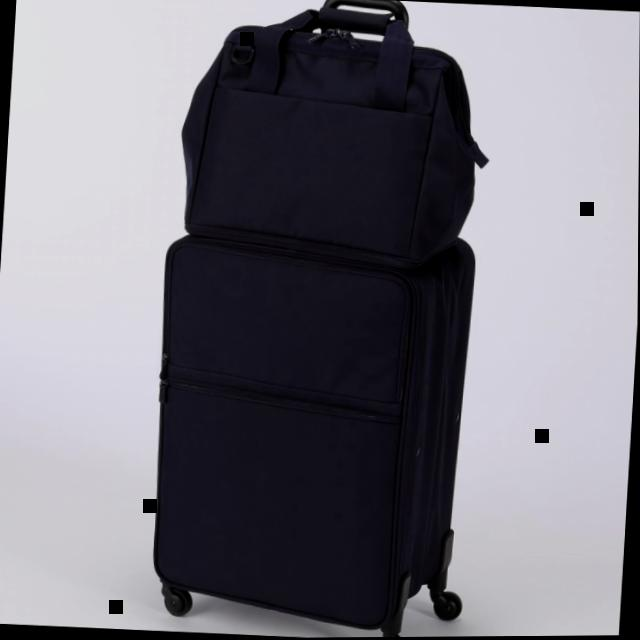luggage: (136, 221, 495, 639), (168, 0, 497, 270)
